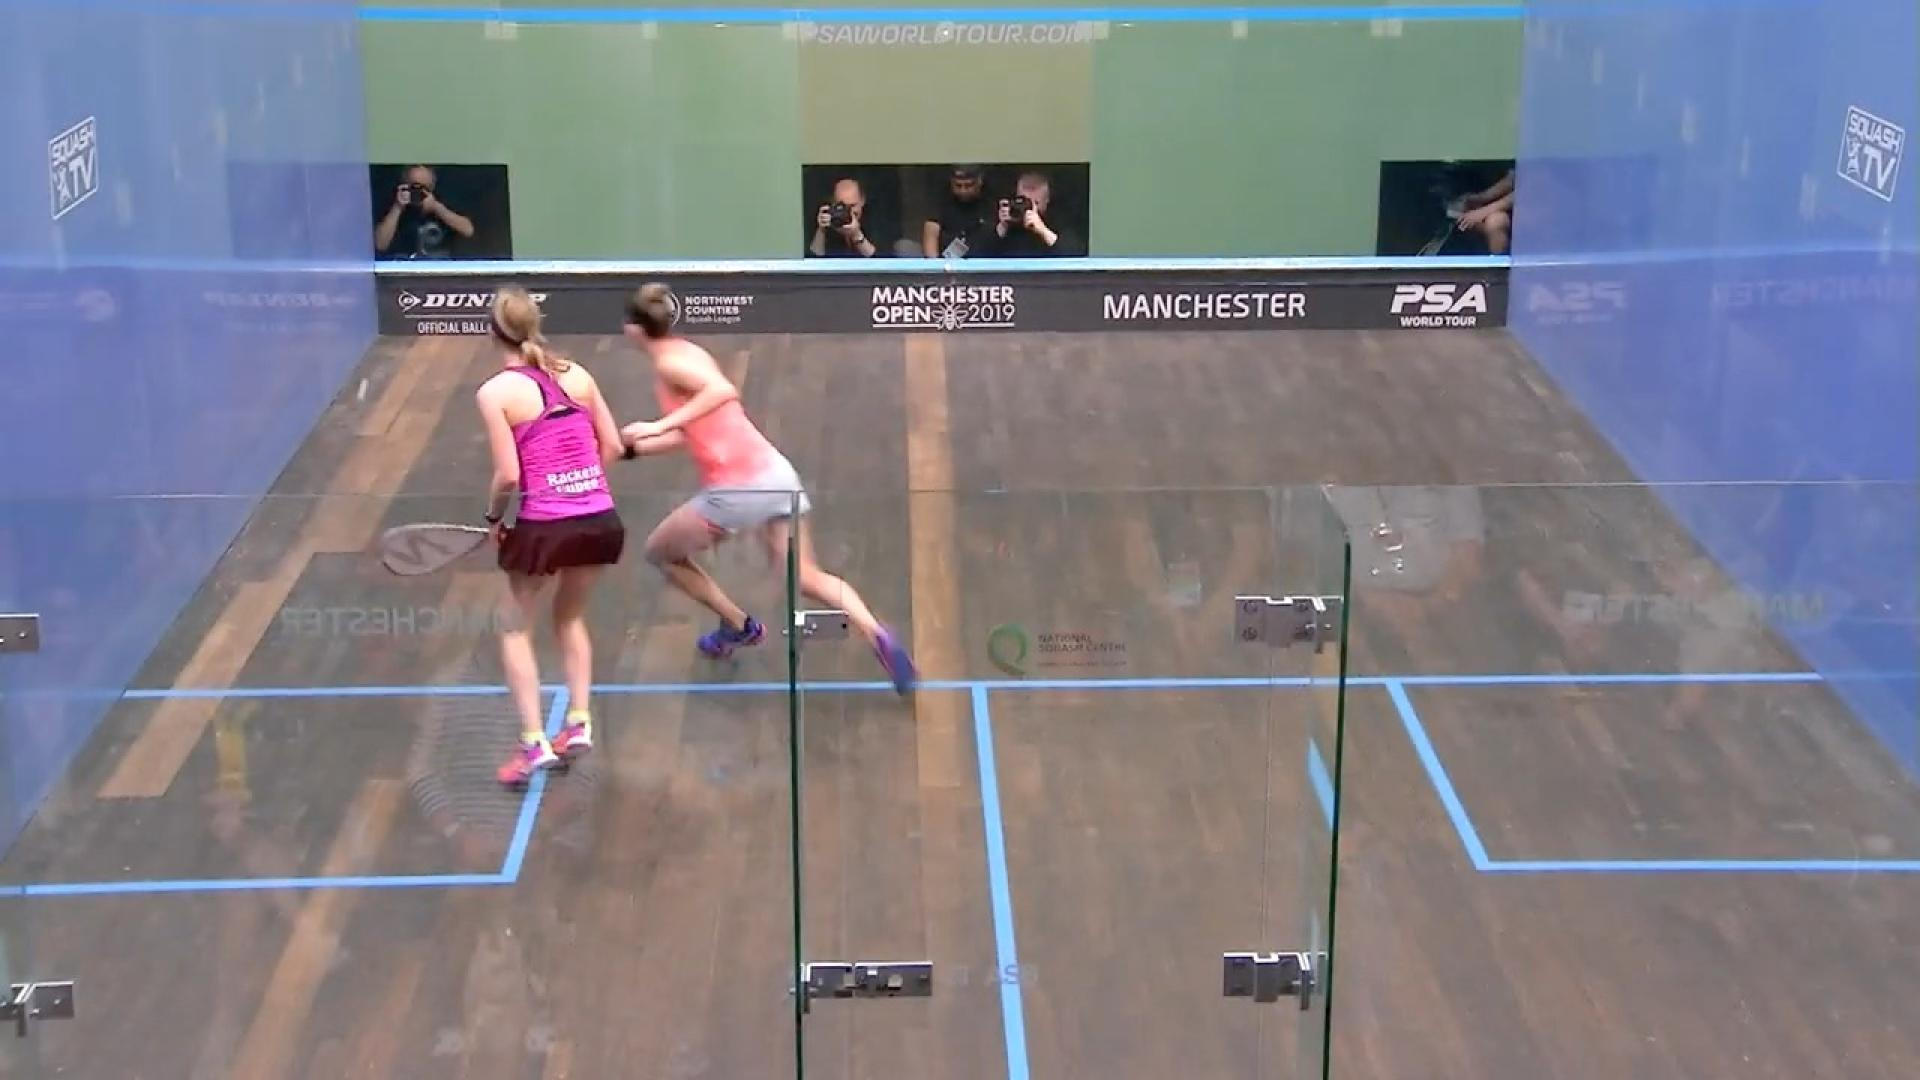Squash-Ball: (335, 357, 385, 418)
